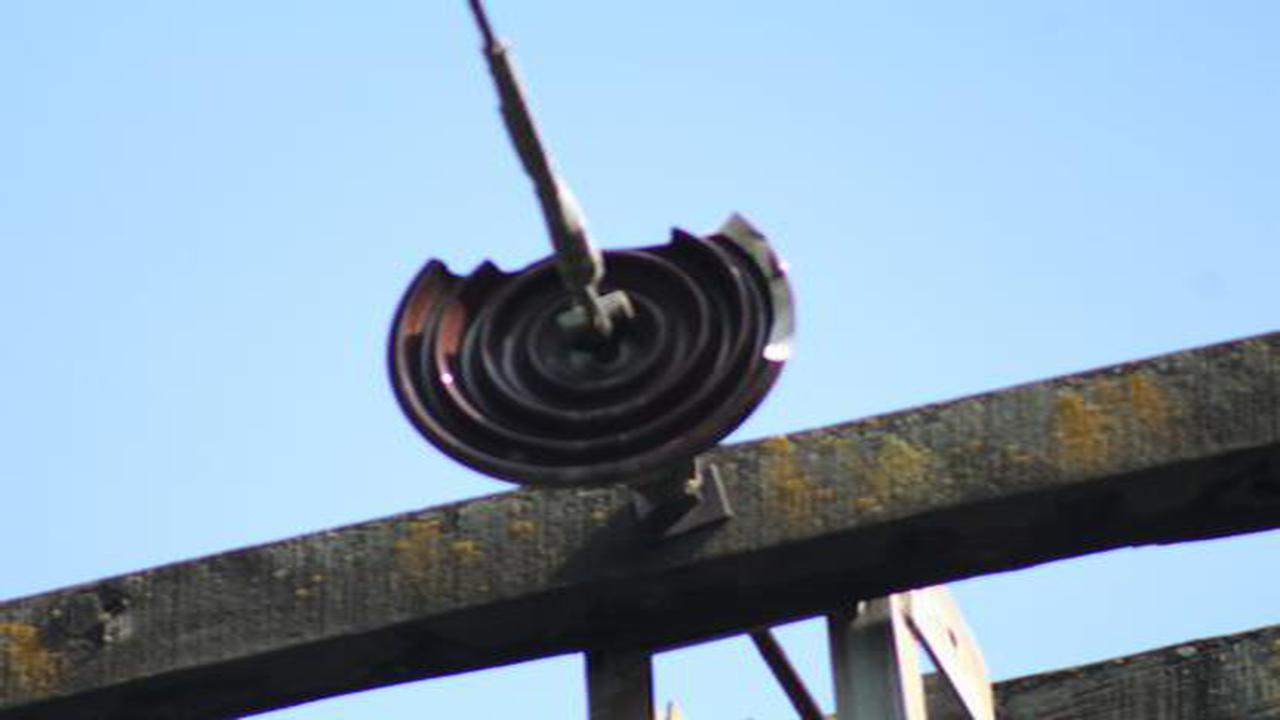defect_disc: (382, 202, 807, 495)
